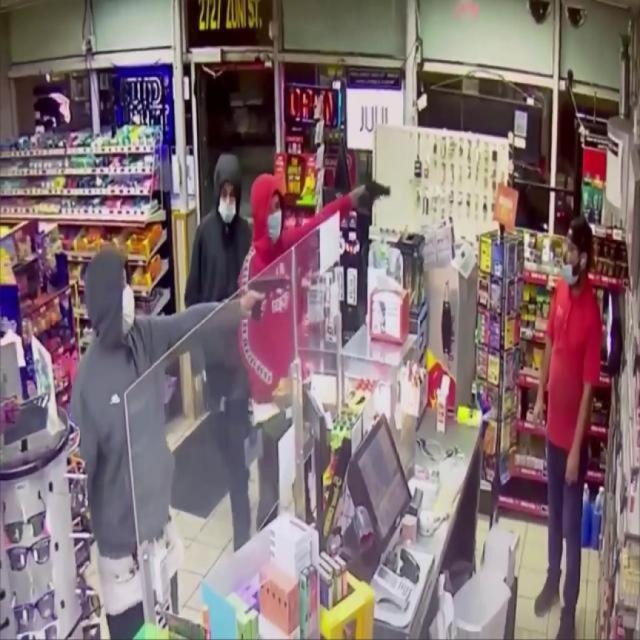pistol: (246, 272, 288, 323), (362, 178, 391, 218)
